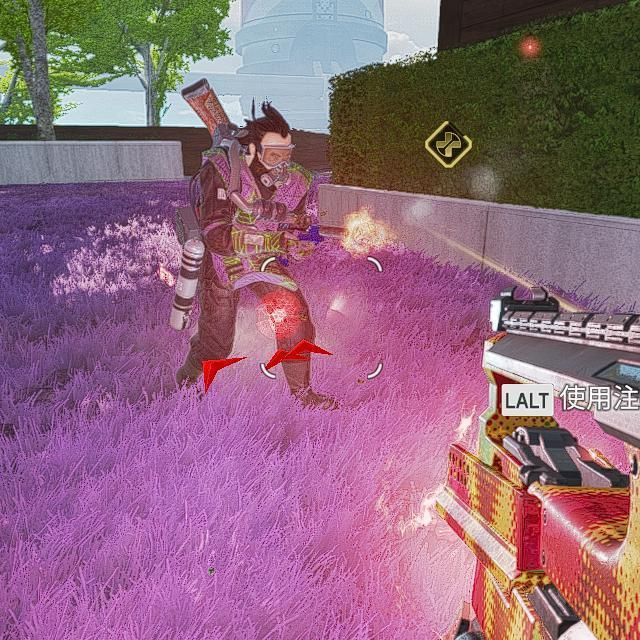avatar: (178, 109, 331, 405)
object: (336, 204, 395, 260), (257, 289, 303, 338)
